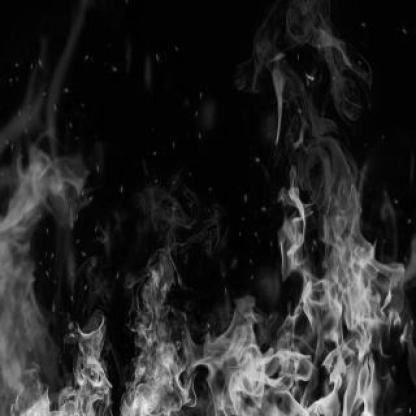fire: (0, 134, 415, 415)
